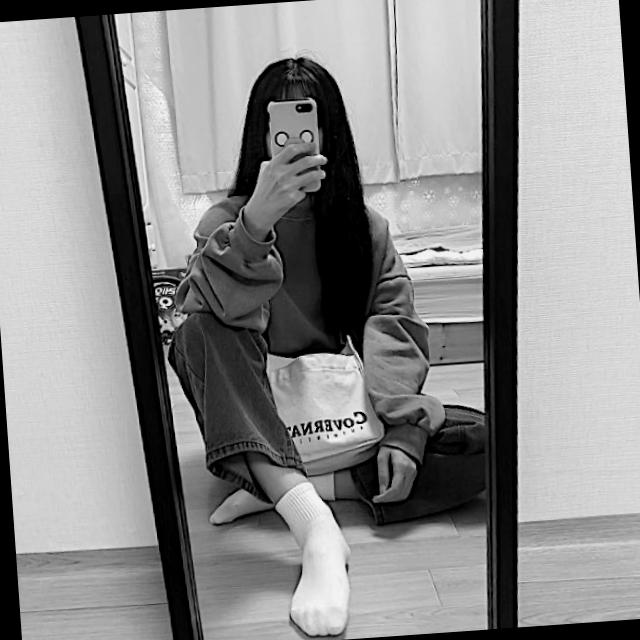denimpants: (165, 292, 490, 534)
mtm: (168, 178, 448, 480)
